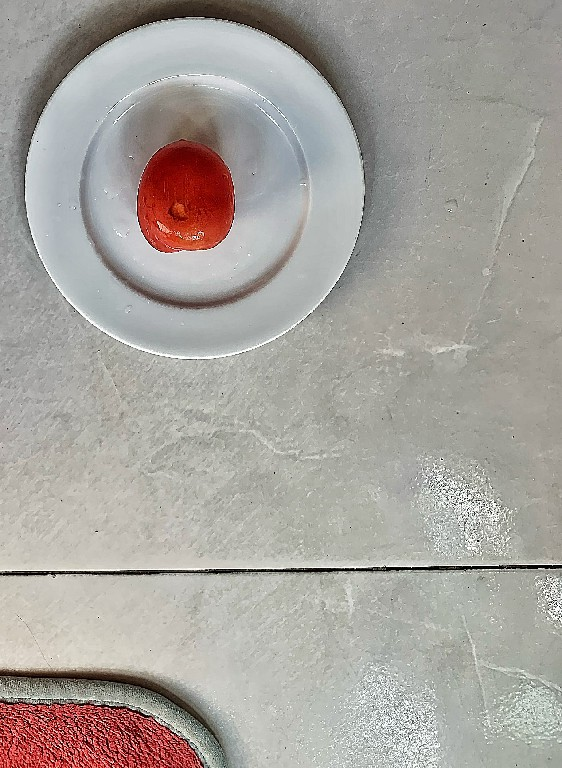NG: (133, 135, 241, 259)
